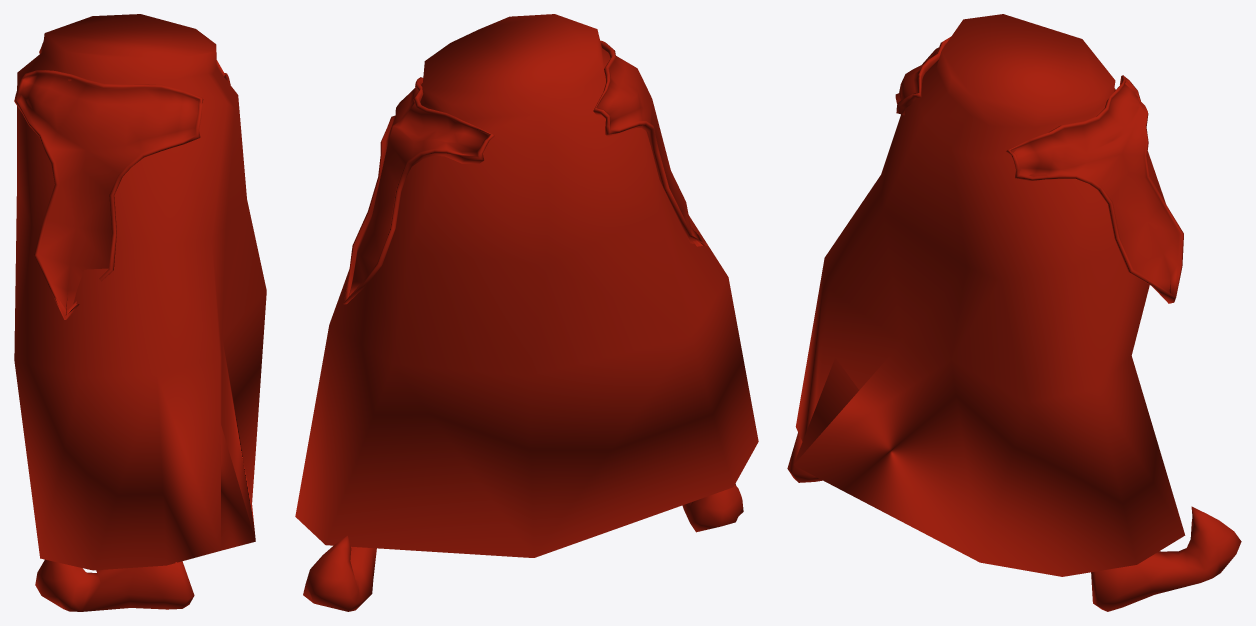
File: bot_000039.obj
The picture shows the model from 3 angles, left to right: view 1: azimuth 30°, elevation 25°; view 2: azimuth 150°, elevation 25°; view 3: azimuth 270°, elevation 25°; orthographic projection. The views are drawn at different scales.
Visible parts, largest first — view 1: LowPoly_Warlock.004_Plane.004; view 2: LowPoly_Warlock.004_Plane.004; view 3: LowPoly_Warlock.004_Plane.004.
Part boxes in pixels (x1,y1,x2,y2): LowPoly_Warlock.004_Plane.004: (14, 14, 266, 611); LowPoly_Warlock.004_Plane.004: (295, 14, 758, 611); LowPoly_Warlock.004_Plane.004: (787, 14, 1241, 611).
Size of the model in its own units: 0.6901 by 1.14 by 0.9129.
